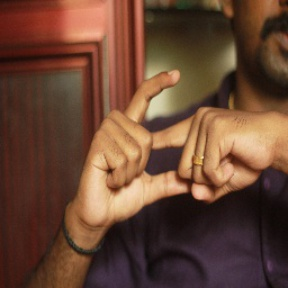E: (105, 67, 223, 208)
